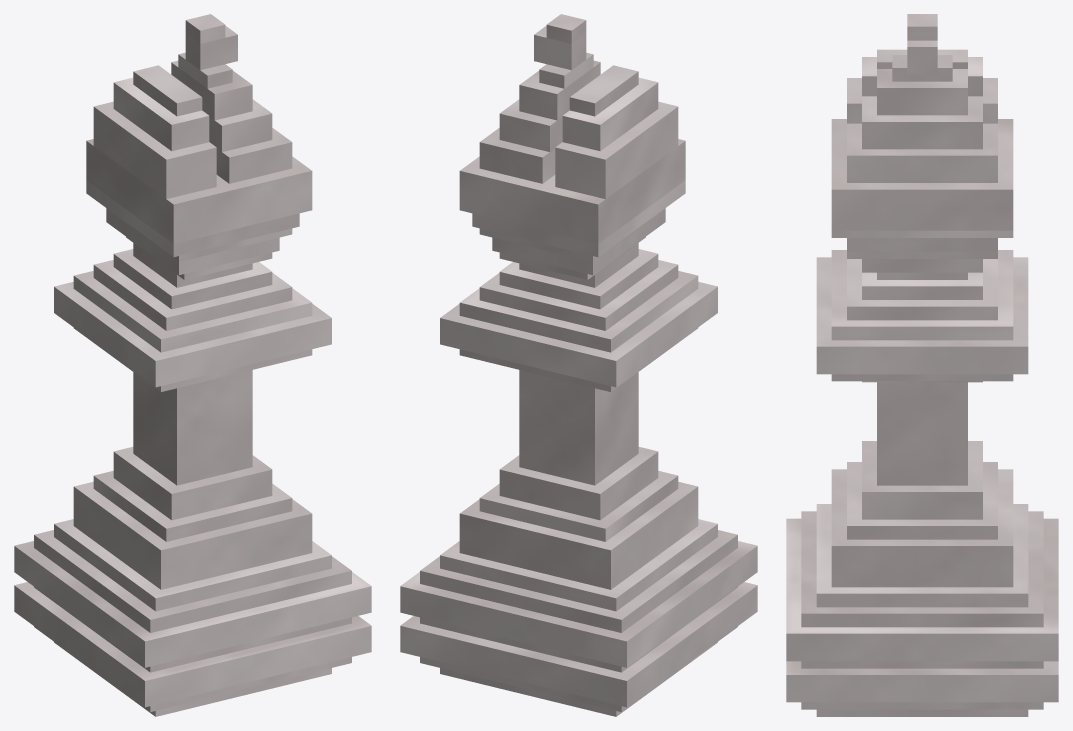
Rendered from Fou.fbx.
The picture shows the model from 3 angles, left to right: view 1: azimuth 30°, elevation 25°; view 2: azimuth 150°, elevation 25°; view 3: azimuth 270°, elevation 25°; orthographic projection. The views are drawn at different scales.
Parts seen in each view (by area): view 1: cube_2, cube_4, cube_7, cube_10, cube_23, cube_14, cube_5, cube_6, cube_24, cube_9, cube_15, cube_8 (+19 smaller); view 2: cube_2, cube_4, cube_7, cube_10, cube_23, cube_14, cube_5, cube_6, cube_24, cube_9, cube_15, cube_8 (+19 smaller); view 3: cube_2, cube_7, cube_23, cube_14, cube_4, cube_10, cube_5, cube_6, cube_15, cube_25, cube_9, cube_8 (+19 smaller).
Part boxes in pixels (<box>): cube_2: <box>14,541,371,667</box>; cube_4: <box>14,582,371,707</box>; cube_7: <box>73,481,312,589</box>; cube_10: <box>133,370,252,485</box>; cube_23: <box>86,139,312,243</box>; cube_14: <box>54,282,331,387</box>; cube_5: <box>34,530,351,632</box>; cube_6: <box>54,519,331,611</box>; cube_24: <box>93,101,216,199</box>; cube_9: <box>113,447,272,520</box>; cube_15: <box>73,271,312,352</box>; cube_8: <box>93,471,292,541</box>; cube_2: <box>400,541,757,667</box>; cube_4: <box>400,582,757,707</box>; cube_7: <box>459,481,698,589</box>; cube_10: <box>519,370,638,485</box>; cube_23: <box>459,139,685,243</box>; cube_14: <box>440,282,717,387</box>; cube_5: <box>420,530,737,632</box>; cube_6: <box>440,519,717,611</box>; cube_24: <box>555,101,678,199</box>; cube_9: <box>499,447,658,520</box>; cube_15: <box>459,271,698,352</box>; cube_8: <box>479,471,678,541</box>; cube_2: <box>786,518,1058,661</box>; cube_7: <box>831,469,1013,587</box>; cube_23: <box>831,119,1013,230</box>; cube_14: <box>816,257,1028,374</box>; cube_4: <box>786,661,1058,702</box>; cube_10: <box>877,382,967,485</box>; cube_5: <box>801,511,1043,627</box>; cube_6: <box>816,504,1028,607</box>; cube_15: <box>831,250,1013,340</box>; cube_25: <box>847,123,997,182</box>; cube_9: <box>862,441,982,519</box>; cube_8: <box>847,462,997,539</box>.
Size of the model in its own units: 112 by 300 by 112.
1 material, 1 textured.
